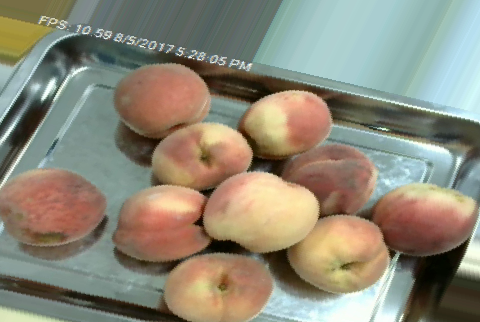Peach: (198, 172, 316, 253), (0, 166, 107, 248), (288, 214, 390, 294), (114, 183, 213, 264), (113, 60, 210, 140), (370, 183, 476, 255), (161, 253, 276, 319), (148, 119, 252, 187), (282, 143, 379, 215), (238, 90, 334, 158)
